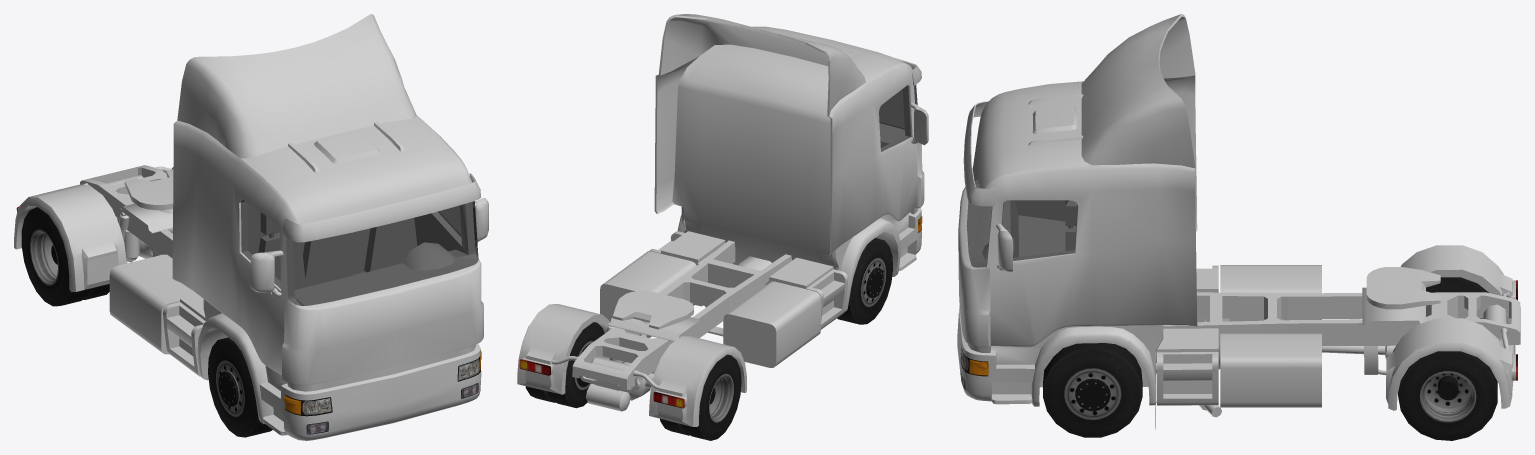
File: Truck_1.FBX
3 renders of one model, left to right at view 1: azimuth 30°, elevation 25°; view 2: azimuth 150°, elevation 25°; view 3: azimuth 270°, elevation 25°, orthographic. The views are drawn at different scales.
Parts seen in each view (by area): view 1: Truck_1_LOD0, Wheels_RR_LOD0, Wheels_FR_LOD0; view 2: Truck_1_LOD0, Wheels_RR_LOD0, Wheels_FR_LOD0, Wheels_RL_LOD0; view 3: Truck_1_LOD0, Wheels_FL_LOD0, Wheels_RL_LOD0, Wheels_RR_LOD0.
Part boxes in pixels (box(x1,y1,x2,y2)): Truck_1_LOD0: box(14, 14, 488, 440); Wheels_RR_LOD0: box(21, 207, 109, 306); Wheels_FR_LOD0: box(208, 337, 272, 437); Truck_1_LOD0: box(517, 14, 928, 426); Wheels_RR_LOD0: box(660, 354, 741, 440); Wheels_FR_LOD0: box(837, 238, 893, 324); Wheels_RL_LOD0: box(525, 322, 604, 408); Truck_1_LOD0: box(957, 14, 1520, 429); Wheels_FL_LOD0: box(1043, 343, 1142, 437); Wheels_RL_LOD0: box(1398, 351, 1497, 440); Wheels_RR_LOD0: box(1426, 277, 1488, 318).
Size of what is drawn, in the model's own units: 2.9 by 4.01 by 6.09.
